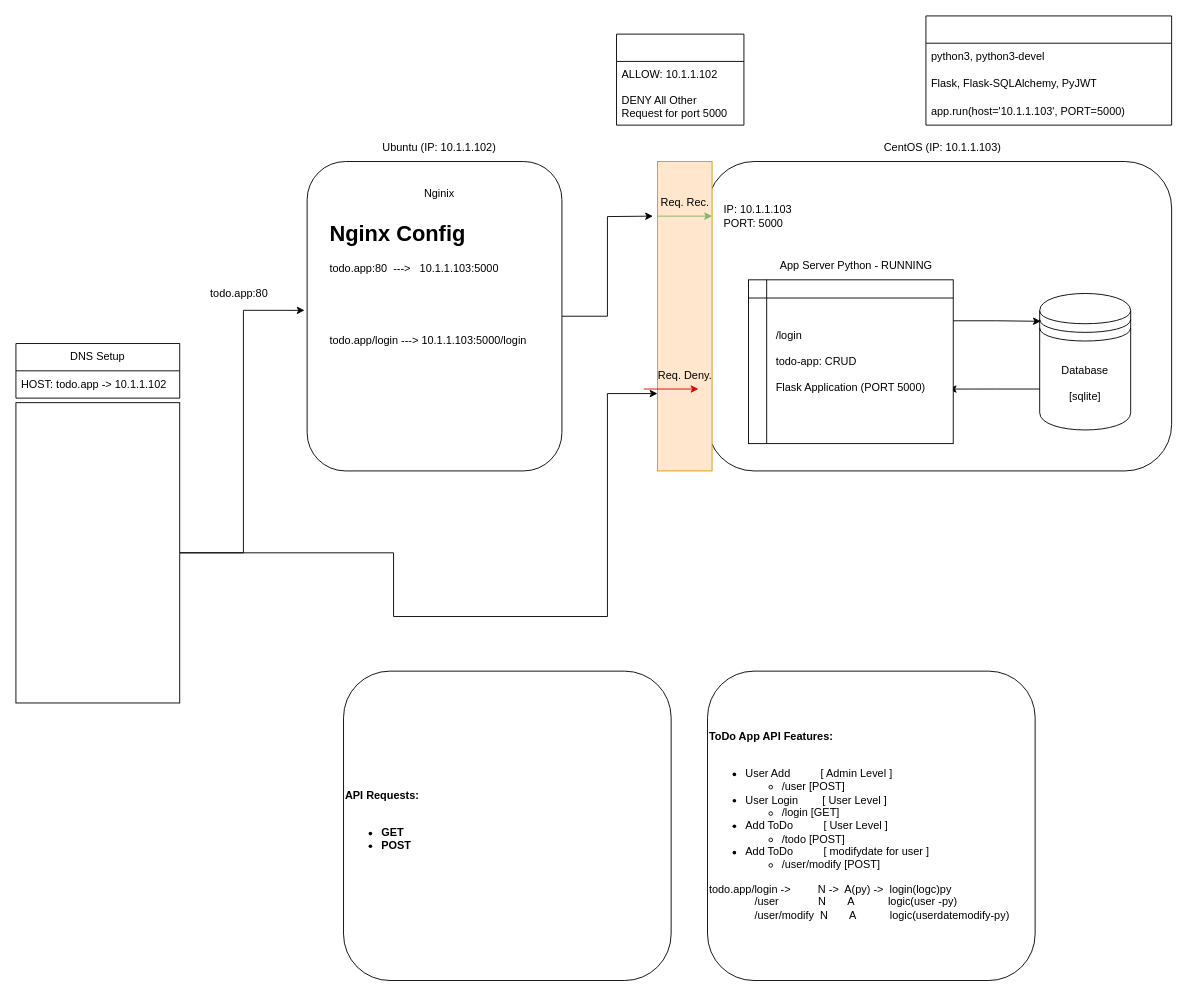
Some shapes in this 1188 by 996 pixel diagram are drawn without their labels. Here are the shapes that lost their labels. From the top down, the box of each, then its label:
(616, 33, 744, 125): Firewall Rule
(925, 15, 1172, 125): Env Setup
(15, 402, 180, 703): My Computer {User} Access it via Postman
